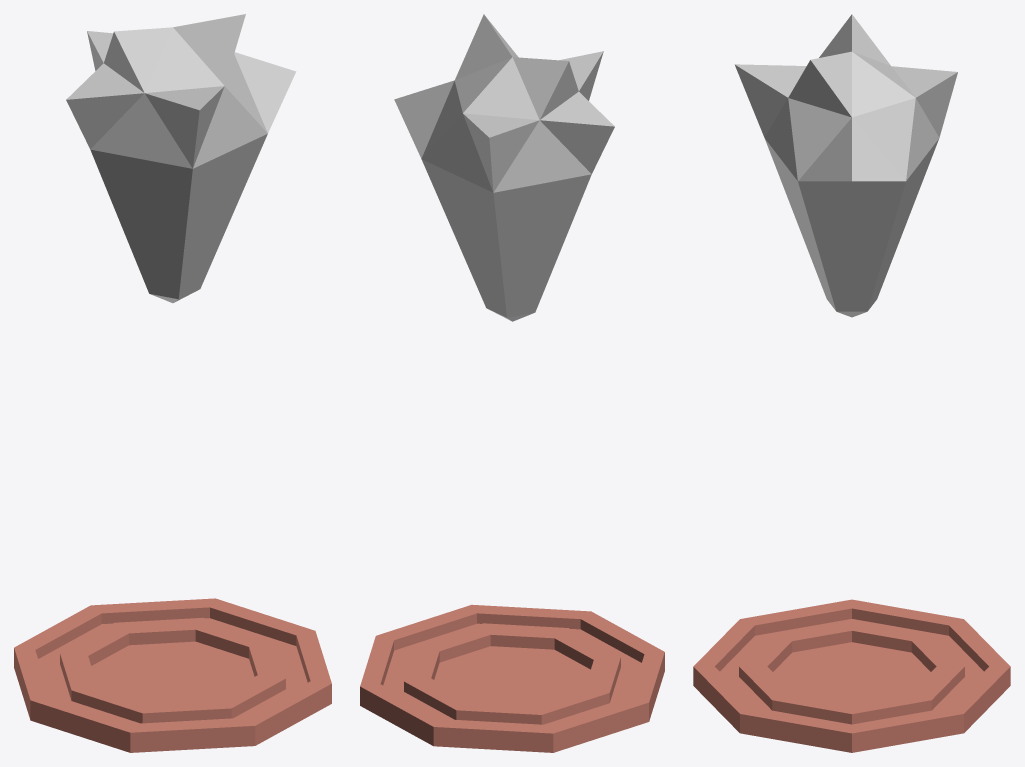
The model's file is cristal.fbx.
3 views of the same model, side by side, from view 1: azimuth 30°, elevation 25°; view 2: azimuth 150°, elevation 25°; view 3: azimuth 270°, elevation 25° (orthographic). The views are drawn at different scales.
Visible parts, largest first — view 1: Icosphere, Cylinder; view 2: Icosphere, Cylinder; view 3: Cylinder, Icosphere.
Part boxes in pixels (x1,y1,x2,y2): Icosphere: (66,14,296,303); Cylinder: (14,598,331,752); Icosphere: (394,14,614,321); Cylinder: (360,604,664,752); Cylinder: (693,599,1010,752); Icosphere: (734,14,957,317).
Size of the model in its own units: 200 by 453 by 200.
